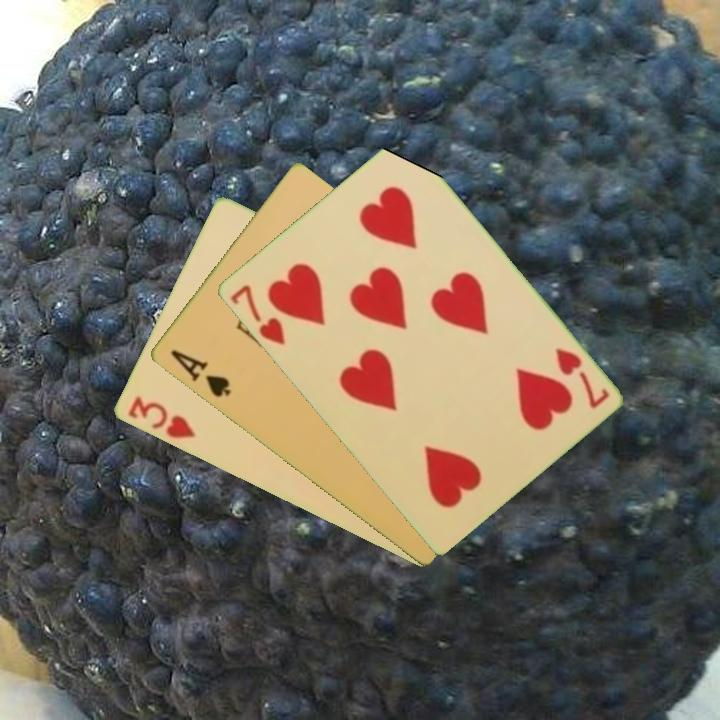3h: (124, 393, 199, 442)
7h: (226, 280, 288, 349), (551, 344, 612, 412)
As: (166, 346, 233, 401)
